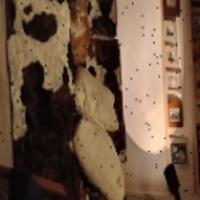asleep: (69, 0, 95, 65)
